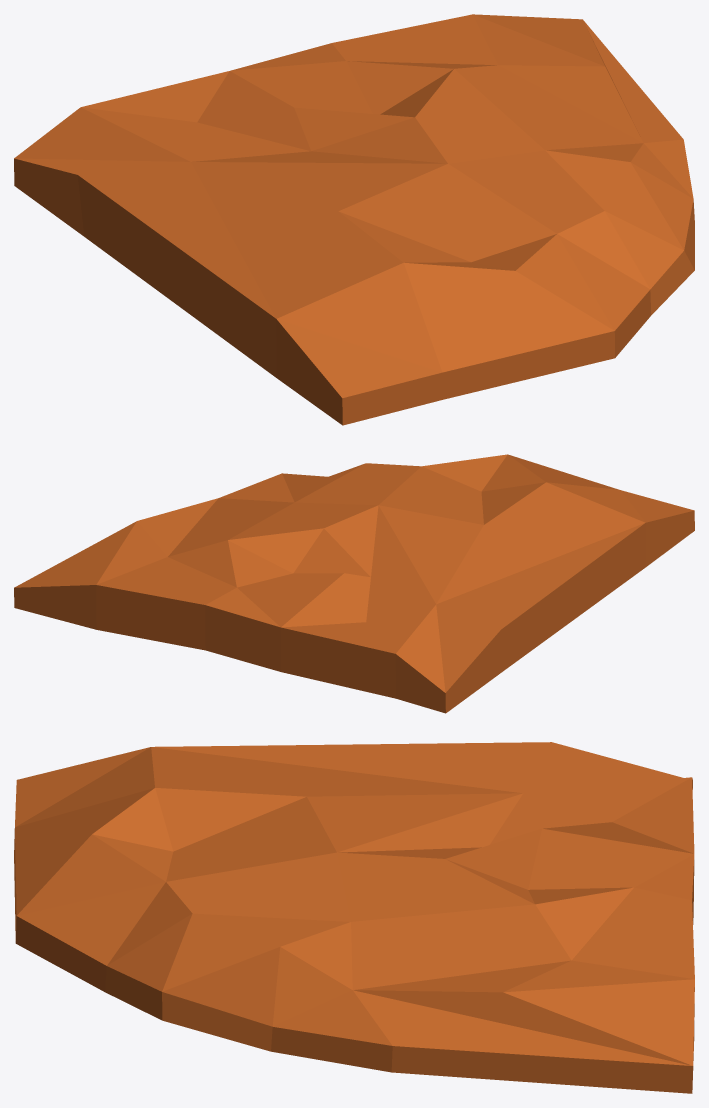
File: Path Curve 4.fbx
The picture shows the model from 3 angles, top to bottom: view 1: azimuth 30°, elevation 25°; view 2: azimuth 150°, elevation 25°; view 3: azimuth 270°, elevation 25°; orthographic projection. The views are drawn at different scales.
Parts seen in each view (by area): view 1: Path Curve 4; view 2: Path Curve 4; view 3: Path Curve 4.
Part boxes in pixels (x1,y1,x2,y2): Path Curve 4: (14, 14, 694, 425); Path Curve 4: (14, 454, 694, 713); Path Curve 4: (14, 742, 694, 1093).
Bounding box in the file's own units: 5.6 × 0.8834 × 5.59.
